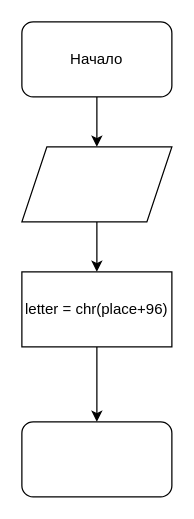
Image size: 194x519. Some labels were removed from this diagram. The shapes that lost their labels are listed below. From the top down, each one's centre as x and y in pixels, then its label:
At (x=96, y=184): "place".
At (x=96, y=459): "Конец".
